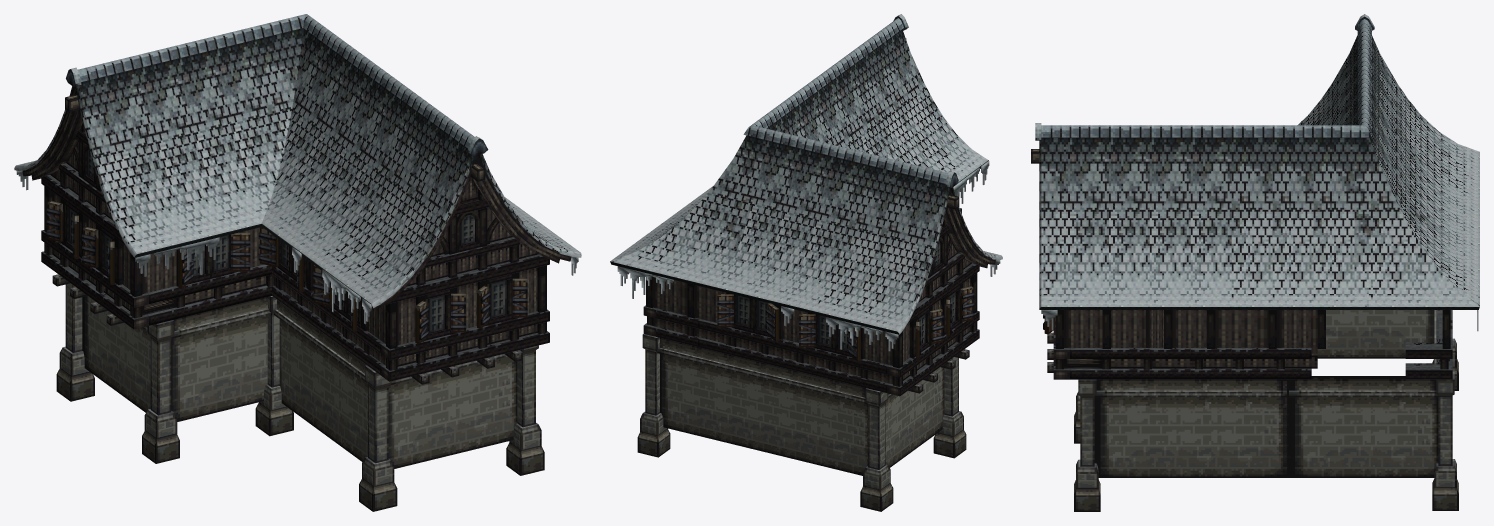
The model's file is EnvBdgMD_SnowHouse_A_Outdoor_House_F.FBX.
The picture shows the model from 3 angles, left to right: view 1: azimuth 30°, elevation 25°; view 2: azimuth 150°, elevation 25°; view 3: azimuth 270°, elevation 25°; orthographic projection. The views are drawn at different scales.
Visible parts, largest first — view 1: EnvBdgMD_SnowHouse_A_Outdoor_House_F; view 2: EnvBdgMD_SnowHouse_A_Outdoor_House_F; view 3: EnvBdgMD_SnowHouse_A_Outdoor_House_F.
Part boxes in pixels (x1,y1,x2,y2): EnvBdgMD_SnowHouse_A_Outdoor_House_F: (14,14,581,511); EnvBdgMD_SnowHouse_A_Outdoor_House_F: (610,14,1002,511); EnvBdgMD_SnowHouse_A_Outdoor_House_F: (1031,14,1479,511).
Size of the model in its own units: 921 by 941 by 1096.
Materials: 1 (1 with a texture image).
